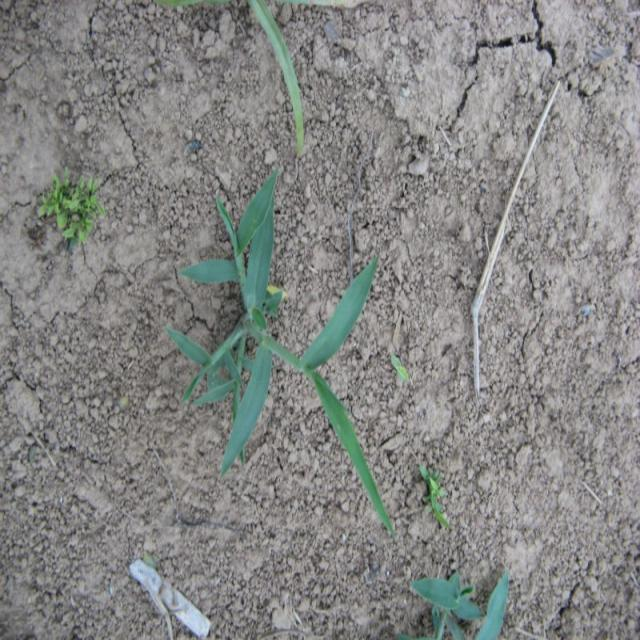bg: (170, 168, 400, 544)
